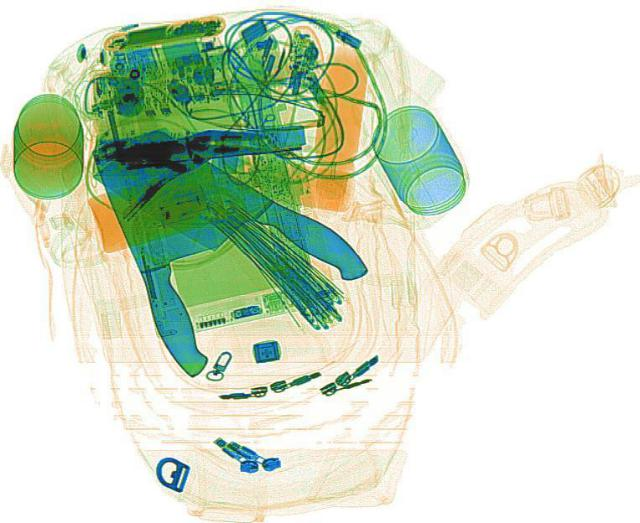Gun: (86, 118, 382, 317), (86, 124, 264, 379)
